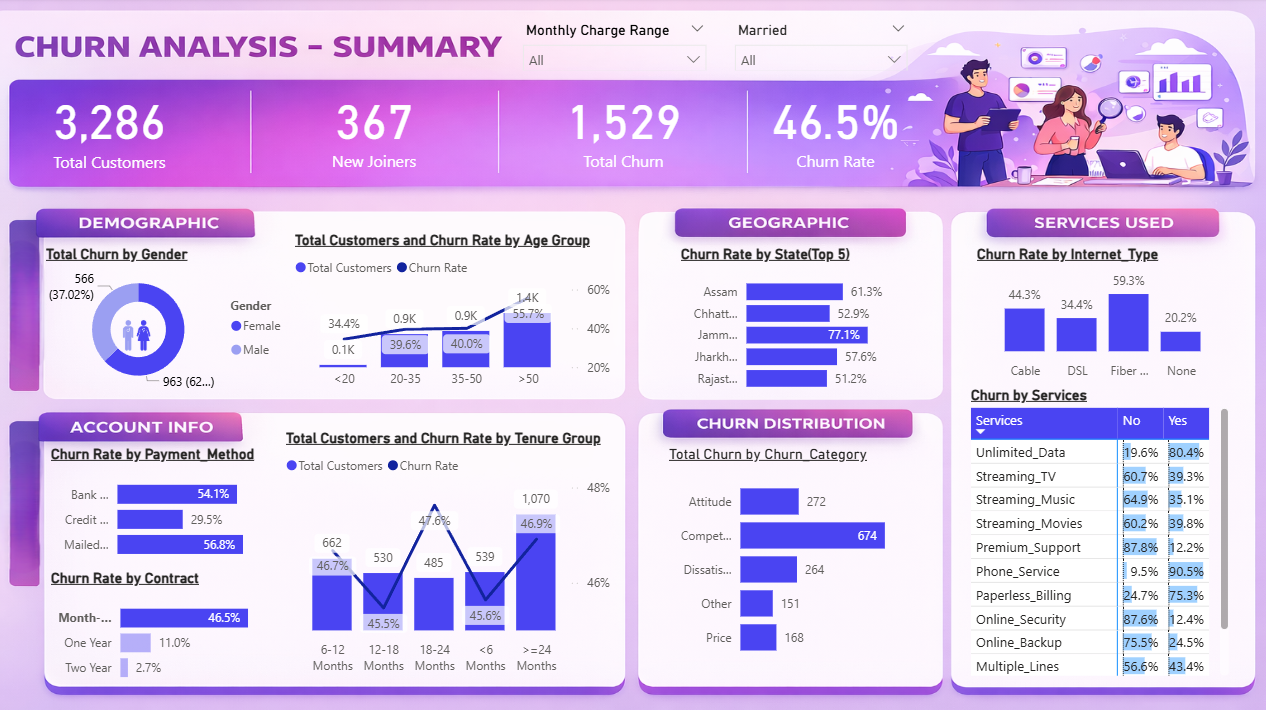

What the dashboard file says about the page in this screenshot:
{"tool":"powerbi","page":{"name":"Summary","canvas":[1280,720],"ordinal":0},"visuals":[{"type":"image","box":[111.9,319.5,54.4,40.3],"z":0},{"type":"card","fields":{"Values":["tbl_Measures.Total Customers"]},"box":[0,55.4,222.7,149.2],"z":1000},{"type":"card","fields":{"Values":["tbl_Measures.New Joiners"]},"box":[284.2,62.5,187.5,134],"z":2000},{"type":"card","fields":{"Values":["tbl_Measures.Total Churn"]},"box":[535.2,62.5,188.5,134],"z":3000},{"type":"card","fields":{"Values":["tbl_Measures.Churn Rate"]},"box":[748.9,62.5,188.5,134],"z":4000},{"type":"donutChart","fields":{"Category":["prod_Churn.Gender"],"Y":["tbl_Measures.Total Churn"]},"box":[42.3,250,257,152.2],"z":5000},{"type":"lineStackedColumnComboChart","fields":{"Category":["mapping_AgeGrp.Age Group"],"Y":["tbl_Measures.Total Customers"],"Y2":["tbl_Measures.Churn Rate"]},"box":[293.3,235.8,327.6,166.3],"z":6000},{"type":"clusteredBarChart","fields":{"Category":["prod_Churn.Payment_Method"],"Y":["tbl_Measures.Churn Rate"]},"box":[47.4,451.5,236.9,125],"z":7000},{"type":"clusteredBarChart","fields":{"Category":["prod_Churn.Contract"],"Y":["tbl_Measures.Churn Rate"]},"box":[47.4,576.5,247.9,124],"z":8000},{"type":"lineStackedColumnComboChart","fields":{"Category":["mapping_TenureGrp.Tenure Group"],"Y":["tbl_Measures.Total Customers"],"Y2":["tbl_Measures.Churn Rate"]},"box":[284.2,435.4,336.6,253],"z":9000},{"type":"clusteredBarChart","title":"Churn Rate by State(Top 5)","fields":{"Category":["prod_Churn.State"],"Y":["tbl_Measures.Churn Rate"]},"box":[682.3,250,230.8,156.2],"z":10000},{"type":"clusteredBarChart","fields":{"Category":["prod_Churn.Churn_Category"],"Y":["tbl_Measures.Total Churn"]},"box":[670.2,451.5,255,225.8],"z":11000},{"type":"clusteredColumnChart","fields":{"Category":["prod_Churn.Internet_Type"],"Y":["tbl_Measures.Churn Rate"]},"box":[980.7,250,258,141.1],"z":12000},{"type":"pivotTable","title":"Churn by Services","fields":{"Rows":["prod_Services.Services"],"Columns":["prod_Services.Status"],"Values":["Sum(prod_Services.Churn Status)"]},"box":[974.6,392.1,270.1,296.3],"z":13000},{"type":"slicer","fields":{"Values":["prod_Services.Monthly Charge Status"]},"box":[518,19.1,204.6,54.4],"z":14000},{"type":"slicer","fields":{"Values":["prod_Services.Married"]},"box":[731.7,19.1,193.5,54.4],"z":15000}]}

Visuals, with their boxes in screenshot pixels (x1, y1, x2, y2), scaled from the page's 1280x720 canvas onto the 1266x710 screenshot:
image: {"left": 111, "top": 315, "right": 164, "bottom": 355}
card - tbl_Measures.Total Customers: {"left": 0, "top": 55, "right": 220, "bottom": 202}
card - tbl_Measures.New Joiners: {"left": 281, "top": 62, "right": 467, "bottom": 194}
card - tbl_Measures.Total Churn: {"left": 529, "top": 62, "right": 716, "bottom": 194}
card - tbl_Measures.Churn Rate: {"left": 741, "top": 62, "right": 927, "bottom": 194}
donutChart - prod_Churn.Gender x tbl_Measures.Total Churn: {"left": 42, "top": 247, "right": 296, "bottom": 397}
lineStackedColumnComboChart - mapping_AgeGrp.Age Group x tbl_Measures.Total Customers: {"left": 290, "top": 233, "right": 614, "bottom": 397}
clusteredBarChart - prod_Churn.Payment_Method x tbl_Measures.Churn Rate: {"left": 47, "top": 445, "right": 281, "bottom": 568}
clusteredBarChart - prod_Churn.Contract x tbl_Measures.Churn Rate: {"left": 47, "top": 568, "right": 292, "bottom": 691}
lineStackedColumnComboChart - mapping_TenureGrp.Tenure Group x tbl_Measures.Total Customers: {"left": 281, "top": 429, "right": 614, "bottom": 679}
"Churn Rate by State(Top 5)" clusteredBarChart: {"left": 675, "top": 247, "right": 903, "bottom": 401}
clusteredBarChart - prod_Churn.Churn_Category x tbl_Measures.Total Churn: {"left": 663, "top": 445, "right": 915, "bottom": 668}
clusteredColumnChart - prod_Churn.Internet_Type x tbl_Measures.Churn Rate: {"left": 970, "top": 247, "right": 1225, "bottom": 386}
"Churn by Services" pivotTable: {"left": 964, "top": 387, "right": 1231, "bottom": 679}
slicer - prod_Services.Monthly Charge Status: {"left": 512, "top": 19, "right": 715, "bottom": 72}
slicer - prod_Services.Married: {"left": 724, "top": 19, "right": 915, "bottom": 72}
